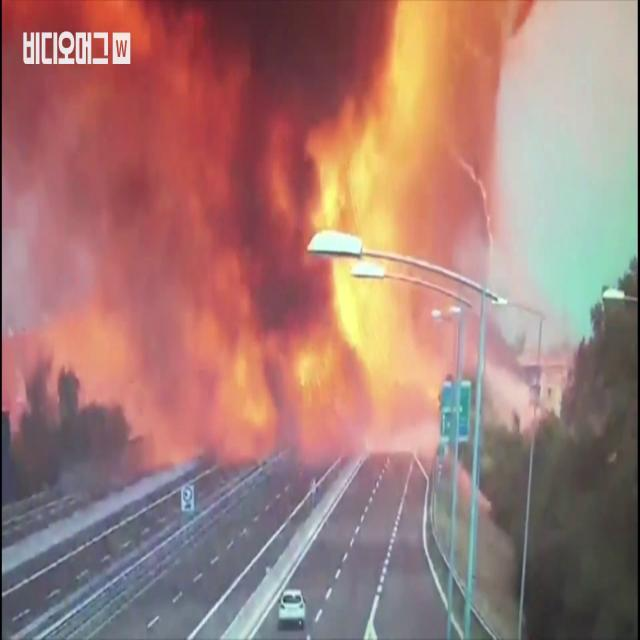explosion: (0, 0, 593, 549)
